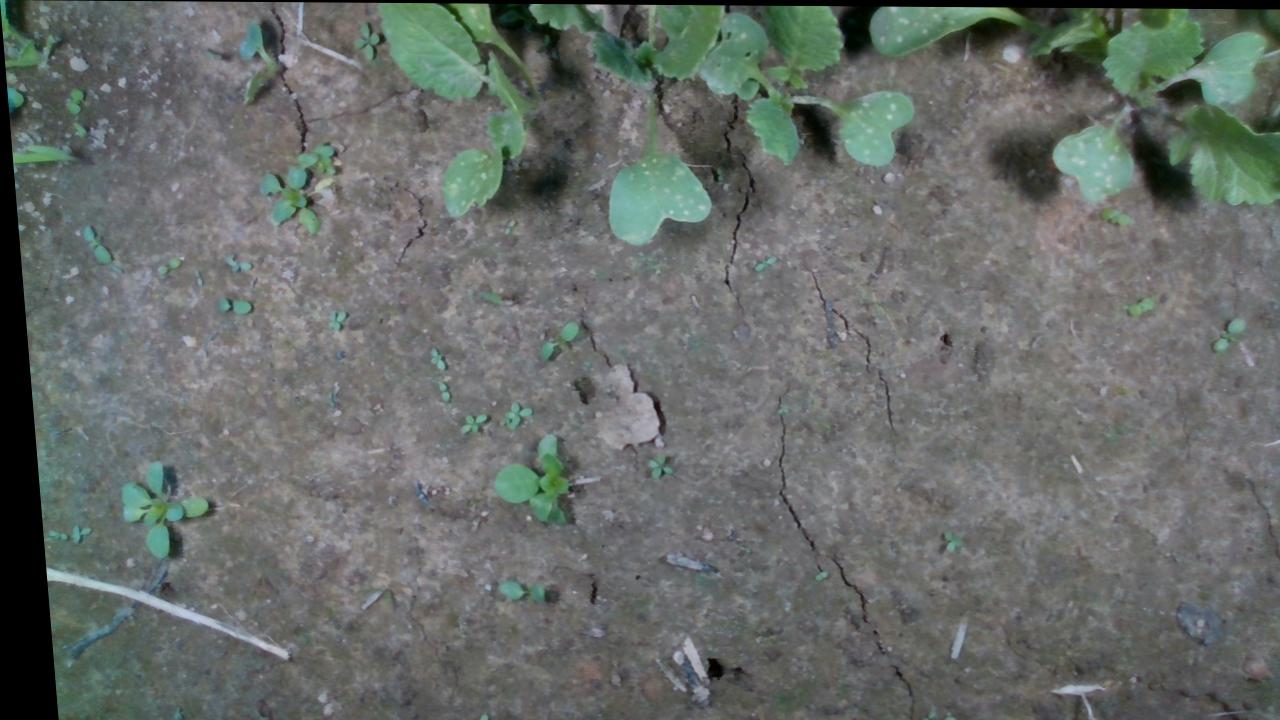weed: (527, 318, 577, 362), (1202, 312, 1242, 350), (75, 223, 110, 265), (483, 577, 537, 603), (348, 18, 381, 60), (447, 409, 483, 435), (636, 449, 667, 479), (207, 294, 249, 316), (1095, 202, 1130, 226), (1119, 292, 1151, 316), (318, 304, 342, 332), (61, 86, 84, 113), (147, 254, 178, 274), (931, 526, 955, 551), (60, 520, 84, 544), (420, 343, 441, 369), (746, 252, 774, 270), (427, 378, 445, 404), (35, 526, 60, 542), (186, 265, 199, 286), (800, 567, 819, 580)
